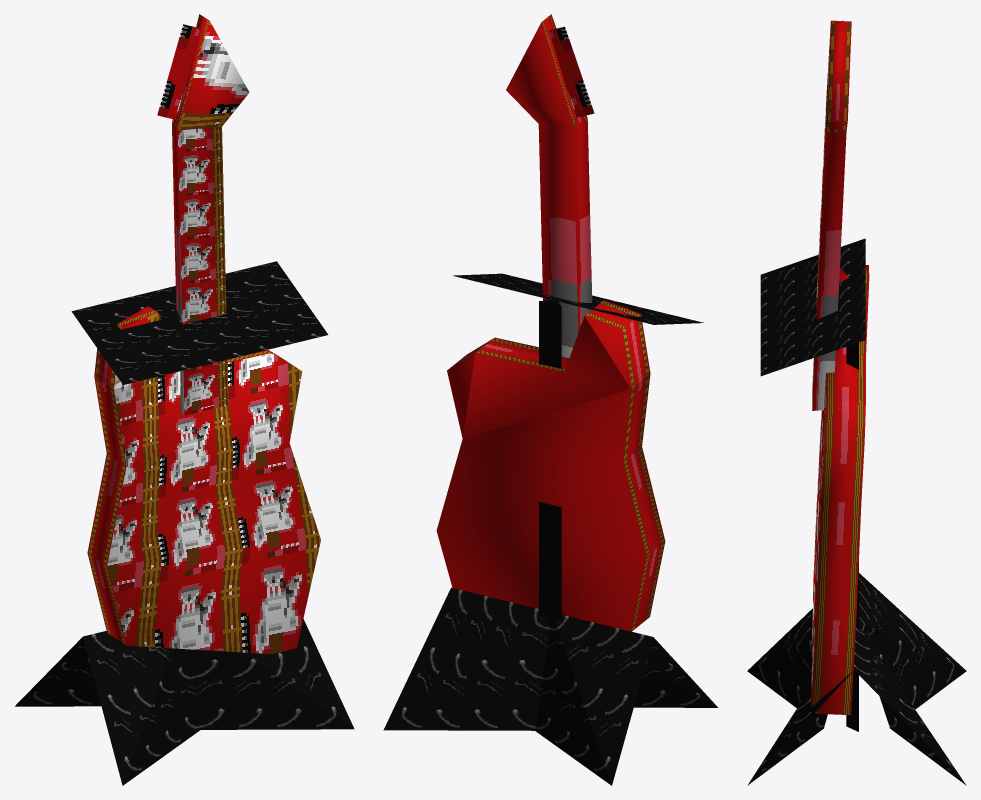
Rendered from 1346gakki05_c.gltf.
3 renders of one model, left to right at view 1: azimuth 30°, elevation 25°; view 2: azimuth 150°, elevation 25°; view 3: azimuth 270°, elevation 25°, orthographic. The views are drawn at different scales.
Parts seen in each view (by area): view 1: 1346gakki05_c; view 2: 1346gakki05_c; view 3: 1346gakki05_c.
Part boxes in pixels (<box>): 1346gakki05_c: <box>15,14,354,785</box>; 1346gakki05_c: <box>383,14,717,785</box>; 1346gakki05_c: <box>747,20,966,785</box>.
Size of the model in its own units: 0.6792 by 1.96 by 0.5476.
Materials: 2 (2 with a texture image).
